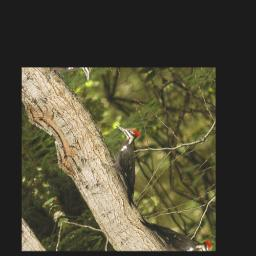Woodpecker: (86, 116, 173, 212)
